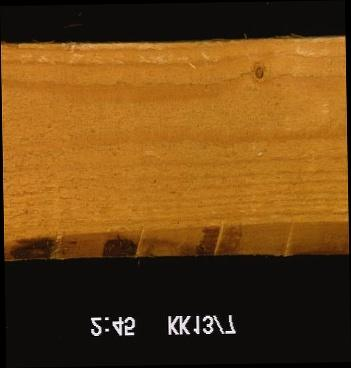dry_knot: (251, 65, 265, 81)
wave: (3, 222, 348, 256)
